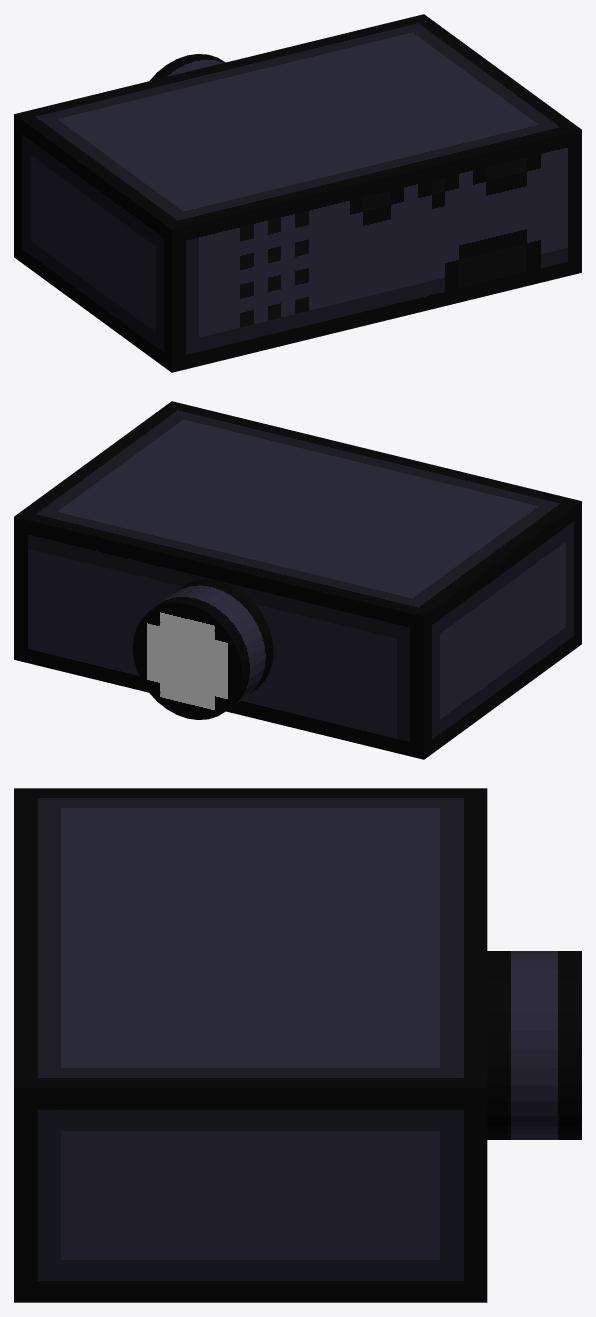
The picture shows the model from 3 angles, top to bottom: view 1: azimuth 30°, elevation 25°; view 2: azimuth 150°, elevation 25°; view 3: azimuth 270°, elevation 25°; orthographic projection. The views are drawn at different scales.
Parts seen in each view (by area): view 1: Main; view 2: Main; view 3: Main.
Boxes of the visible parts, box(x1,y1,x2,y2) form: Main: box(14, 14, 581, 372); Main: box(14, 401, 581, 759); Main: box(14, 788, 581, 1302).
Size of the model in its own units: 0.6 by 0.2 by 0.48.
6 materials, 6 textured.
